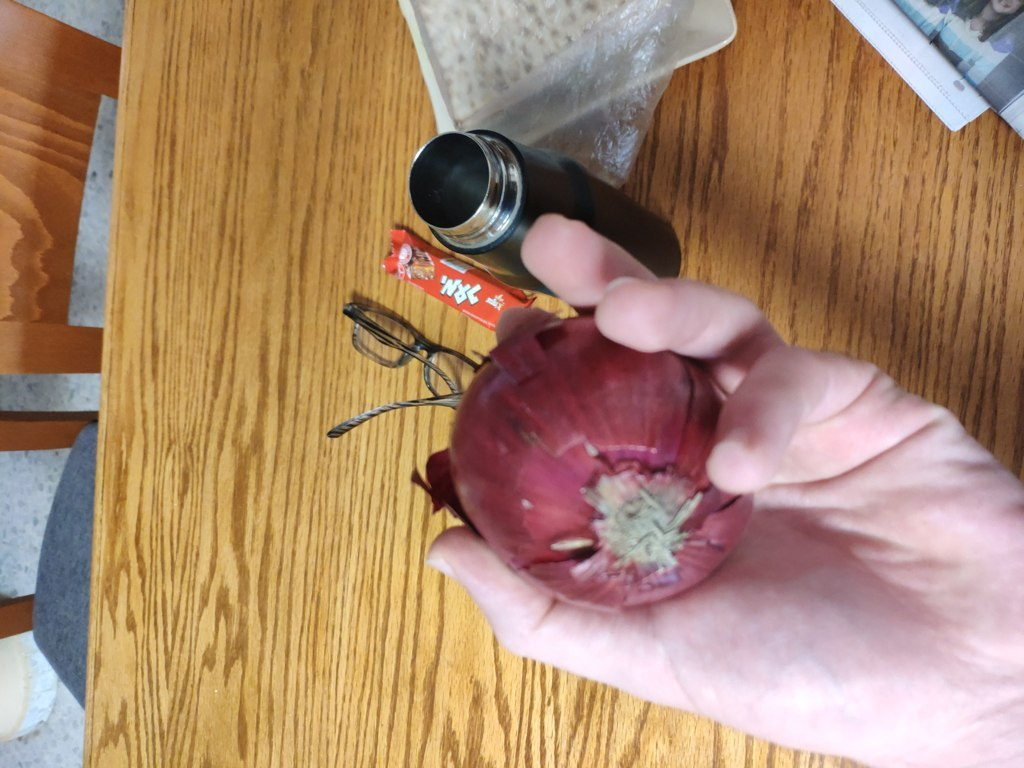Onion: (474, 340, 746, 603)
